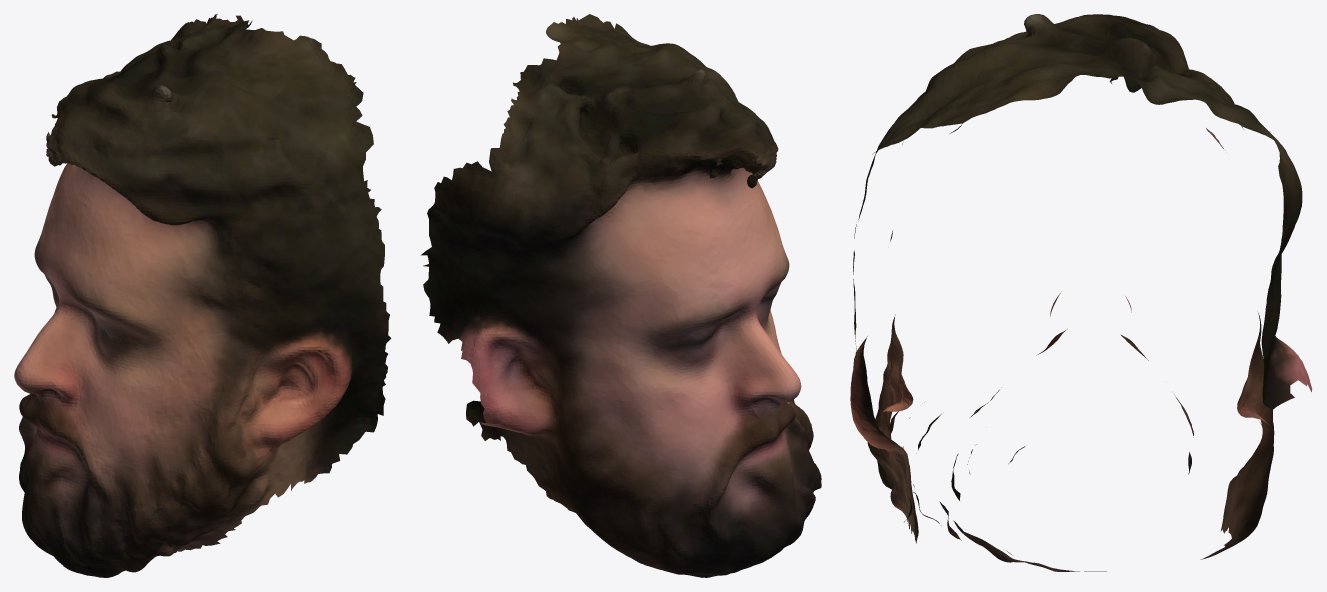
Rendered from face-scan-optimized.glb.
3 renders of one model, left to right at view 1: azimuth 30°, elevation 25°; view 2: azimuth 150°, elevation 25°; view 3: azimuth 270°, elevation 25°, orthographic. The views are drawn at different scales.
Bounding box in the file's own units: 0.1949 × 0.292 × 0.2025.
